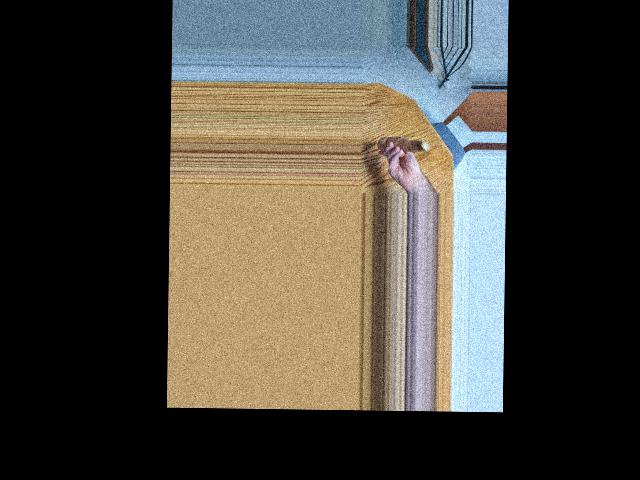sweet_potato: (379, 136, 430, 157)
